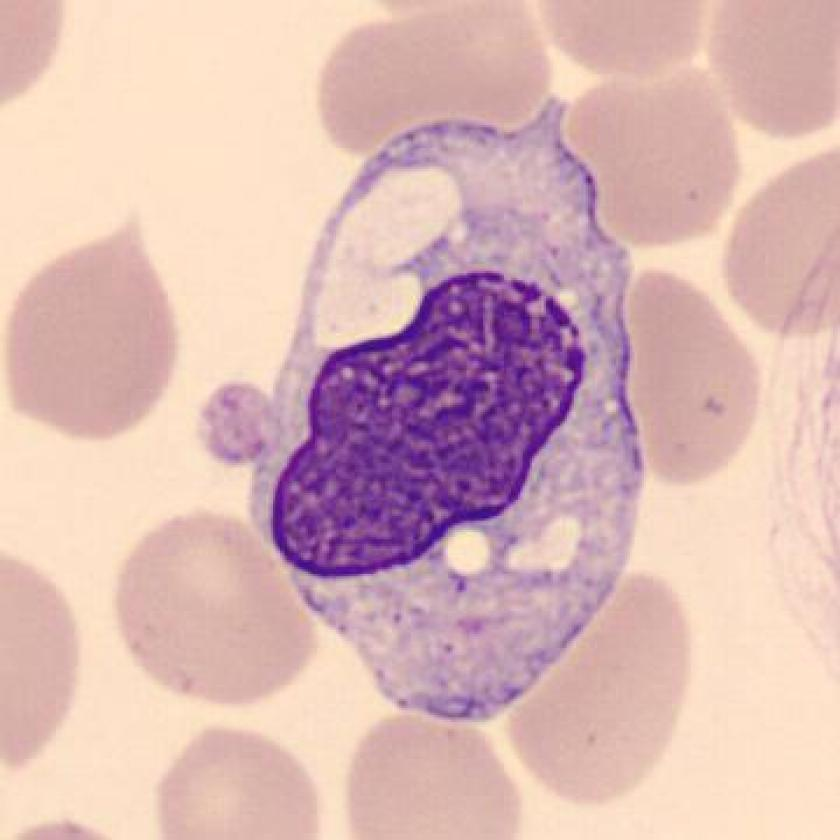monocyte: (237, 84, 673, 744)
